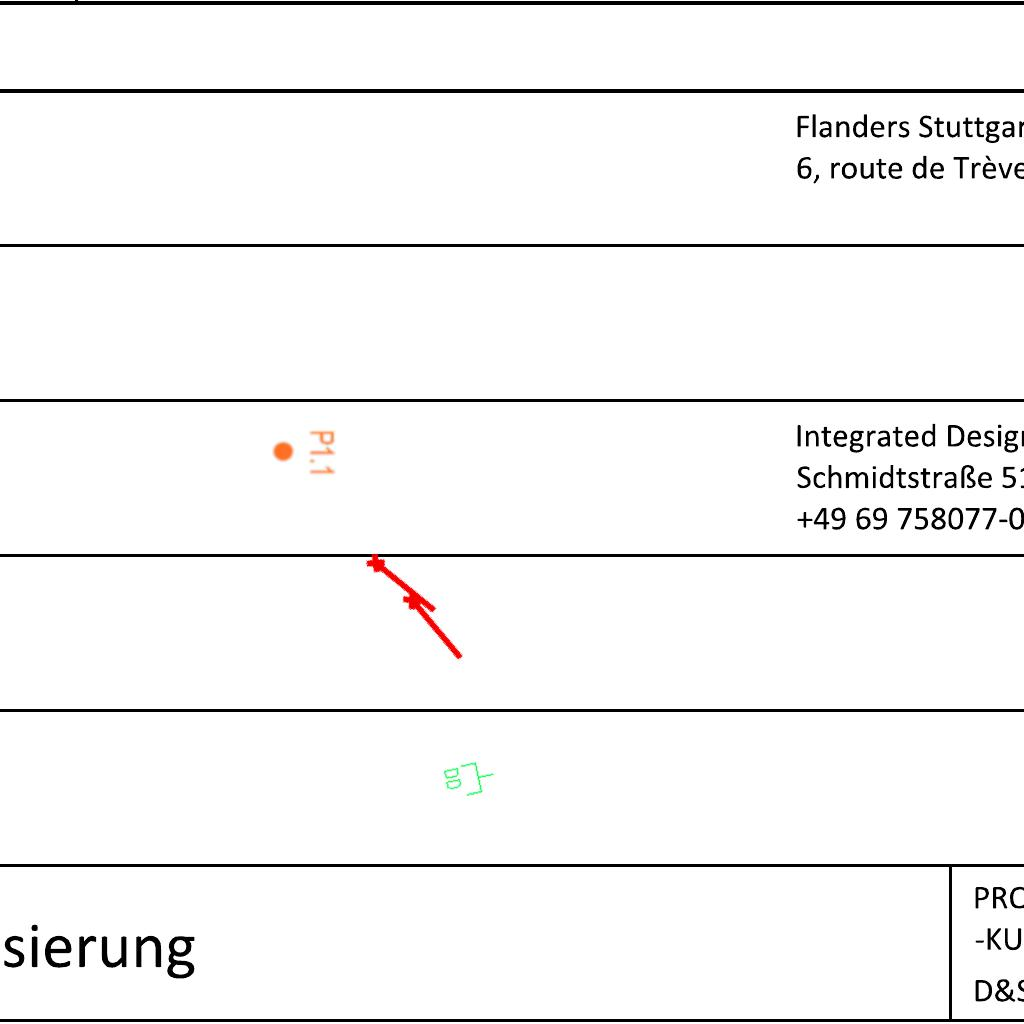ASR_Ansaugoeffnung: (397, 584, 473, 667), (361, 546, 445, 621)
Datenanschluss_zweifach: (441, 757, 498, 801)
Downlight_LED_Einbauleuchten_Flur: (272, 430, 336, 476)
